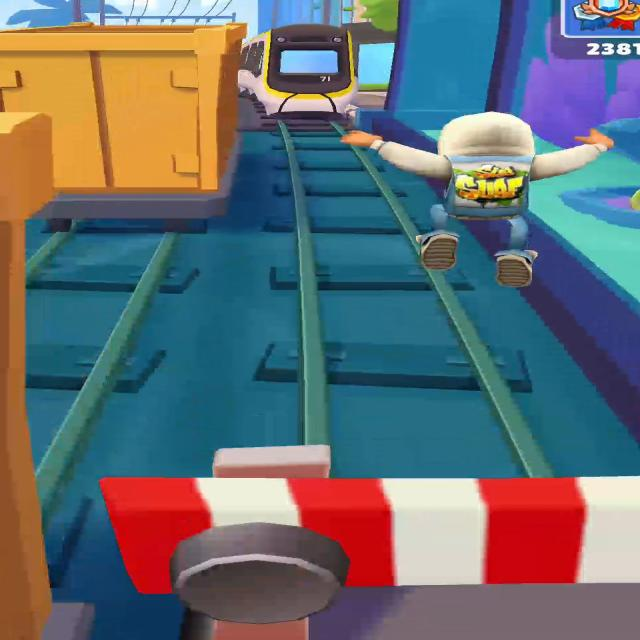train: (0, 23, 245, 230), (238, 24, 358, 118)
